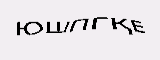А: (36, 30, 70, 59)
К: (103, 29, 122, 57)
Н: (122, 25, 137, 49)
О: (69, 33, 103, 60)
Т: (16, 32, 41, 60)
